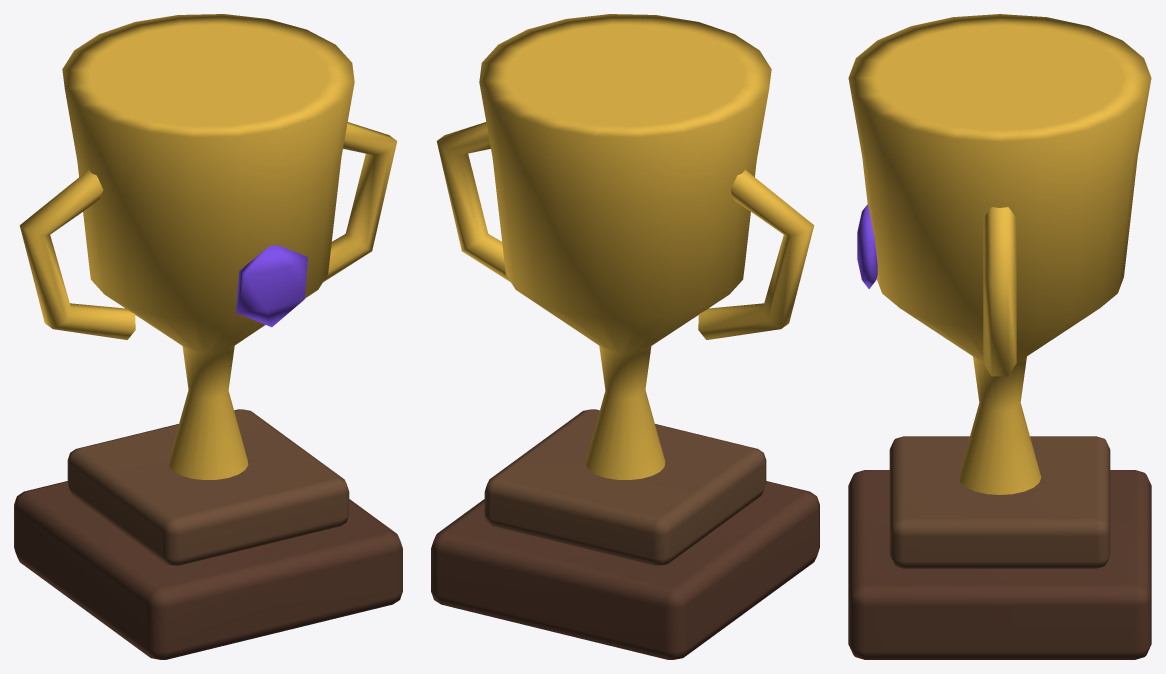
The model's file is furn_trophy_arcade.glb.
3 renders of one model, left to right at view 1: azimuth 30°, elevation 25°; view 2: azimuth 150°, elevation 25°; view 3: azimuth 270°, elevation 25°, orthographic. The views are drawn at different scales.
Parts seen in each view (by area): view 1: furn_trophy_arcade_gloss, furn_trophy_arcade_main; view 2: furn_trophy_arcade_gloss, furn_trophy_arcade_main; view 3: furn_trophy_arcade_gloss, furn_trophy_arcade_main.
Part boxes in pixels (left/top/right/bottom): furn_trophy_arcade_gloss: left=19, top=14, right=397, bottom=479; furn_trophy_arcade_main: left=14, top=245, right=402, bottom=659; furn_trophy_arcade_gloss: left=436, top=14, right=814, bottom=479; furn_trophy_arcade_main: left=431, top=409, right=819, bottom=659; furn_trophy_arcade_gloss: left=848, top=14, right=1151, bottom=494; furn_trophy_arcade_main: left=848, top=204, right=1151, bottom=659.
Bounding box in the file's own units: 0.3194 × 0.42 × 0.22.
